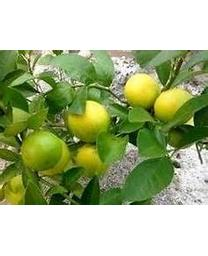lemon: (68, 100, 111, 143), (22, 132, 63, 172), (76, 141, 108, 180), (154, 89, 194, 120), (127, 75, 160, 108)
